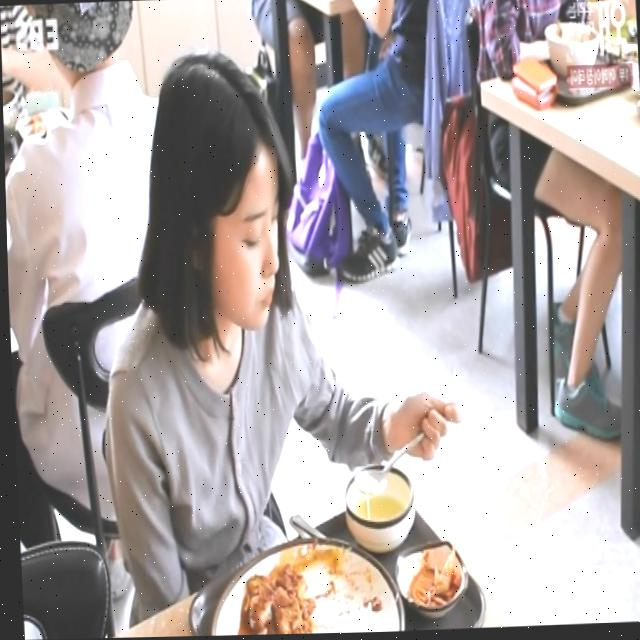eating-person: (82, 26, 481, 639)
